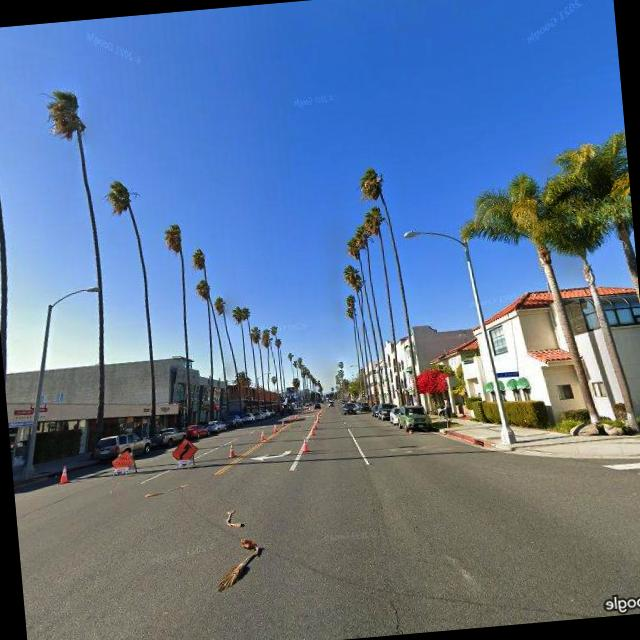pothole: (384, 592, 410, 634)
